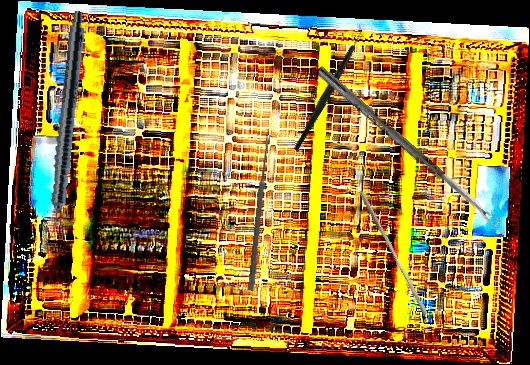Chopper: (258, 21, 397, 153)
Handpiece: (41, 9, 88, 245)
Pusher: (353, 189, 433, 317)
Surgical Spoon: (314, 65, 501, 230), (247, 134, 272, 291)
